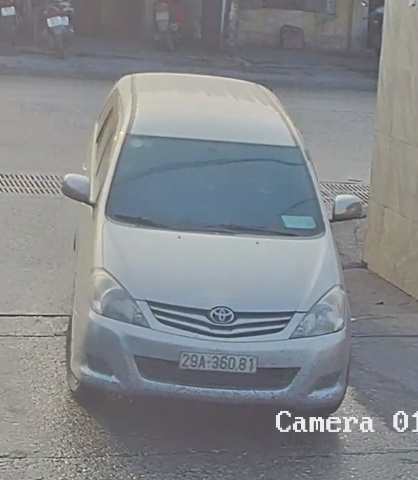vehicle plate: (172, 345, 262, 376)
